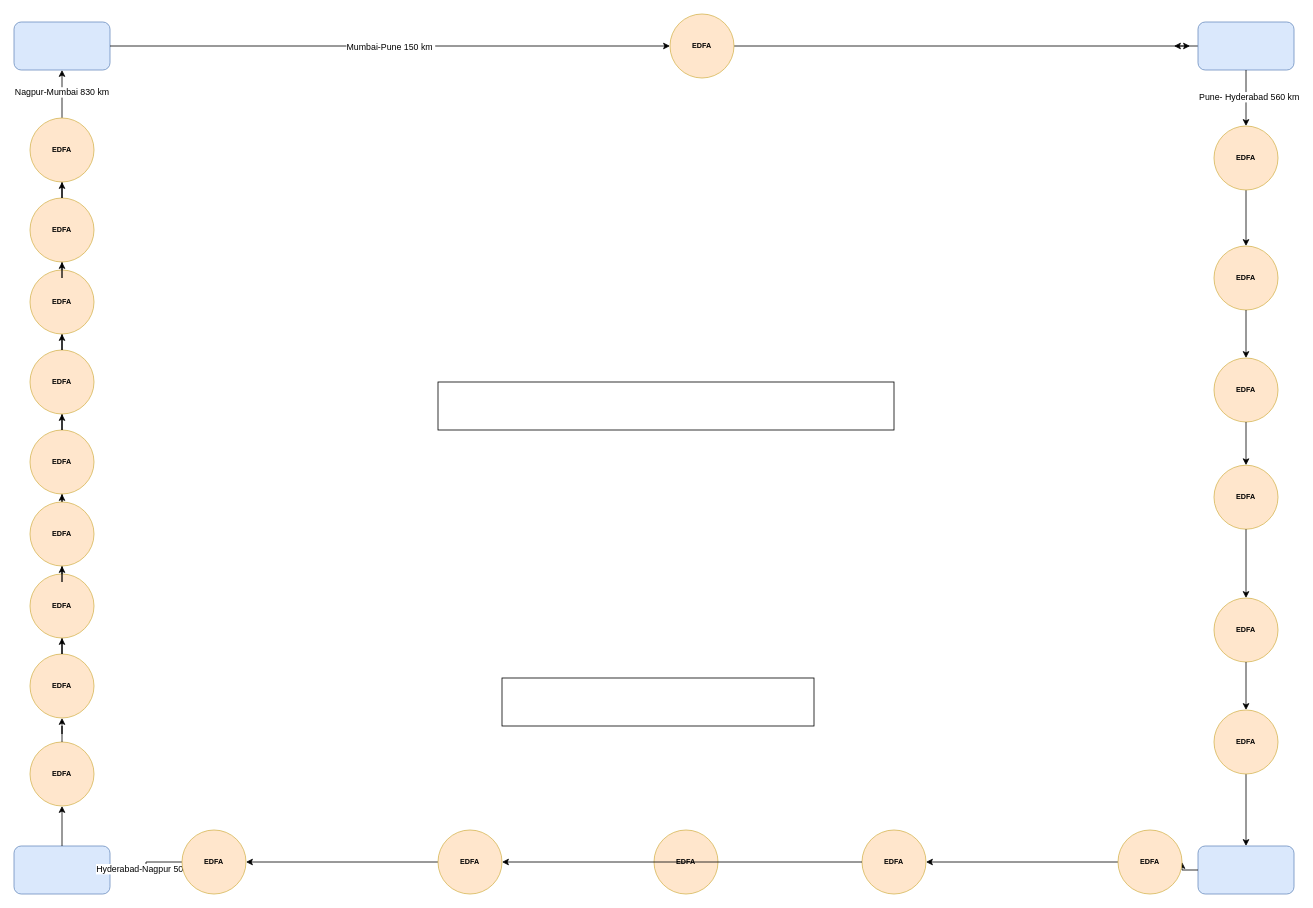
Image size: 1313x908. Some labels were removed from this diagram. Each missing label, with the centre of its shape:
HYDERABAD: the point at 1245,869
Metro DWDM Ring Network — 4-Node ROADM Design: the point at 665,405
MUMBAI: the point at 61,45
NAGPUR: the point at 61,869
PUNE: the point at 1245,45
■ ROADM Node ● EDFA Amplifier — Single-mode Fibre (G.652D): the point at 657,701
